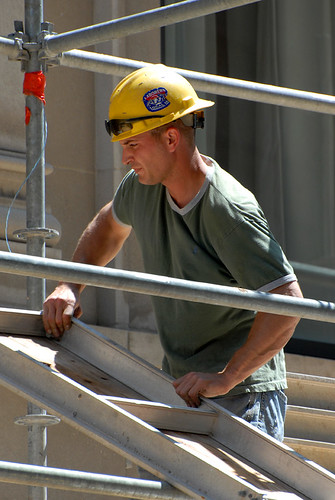person hardhat: (41, 65, 318, 484)
